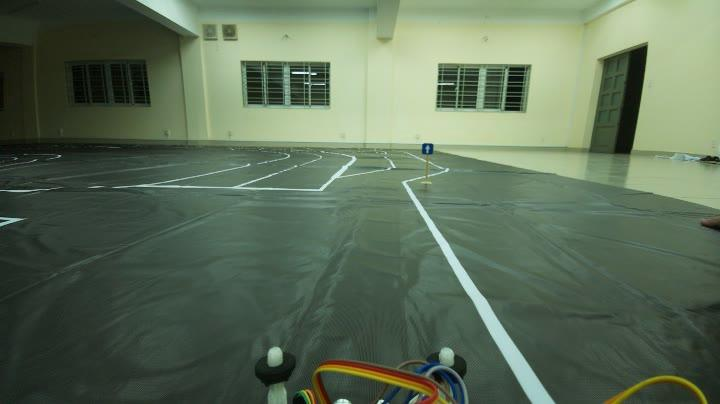onewayroad: (418, 141, 439, 161)
